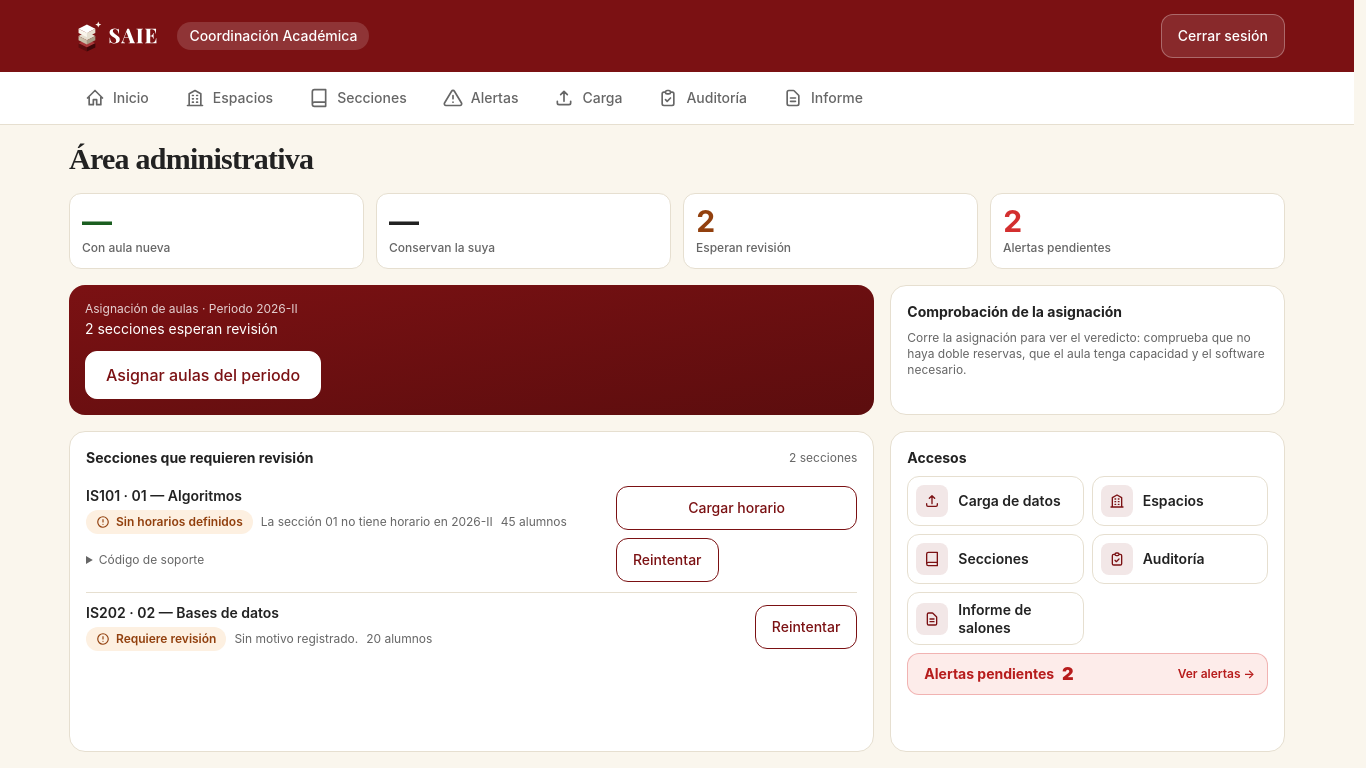
Scenario: Inicio del panel administrativo › Coordinación (Issue 4.20) › muestra el veredicto conforme del verificador (Issue 2.17)
The image size is (1366, 768).
Expected: the text "IS101 · 01 — Algoritmos" is shown, [86,487,242,504]
Step 1. Click the button "Asignar aulas del periodo" → {"x": 203, "y": 375}, box [85,351,321,399]
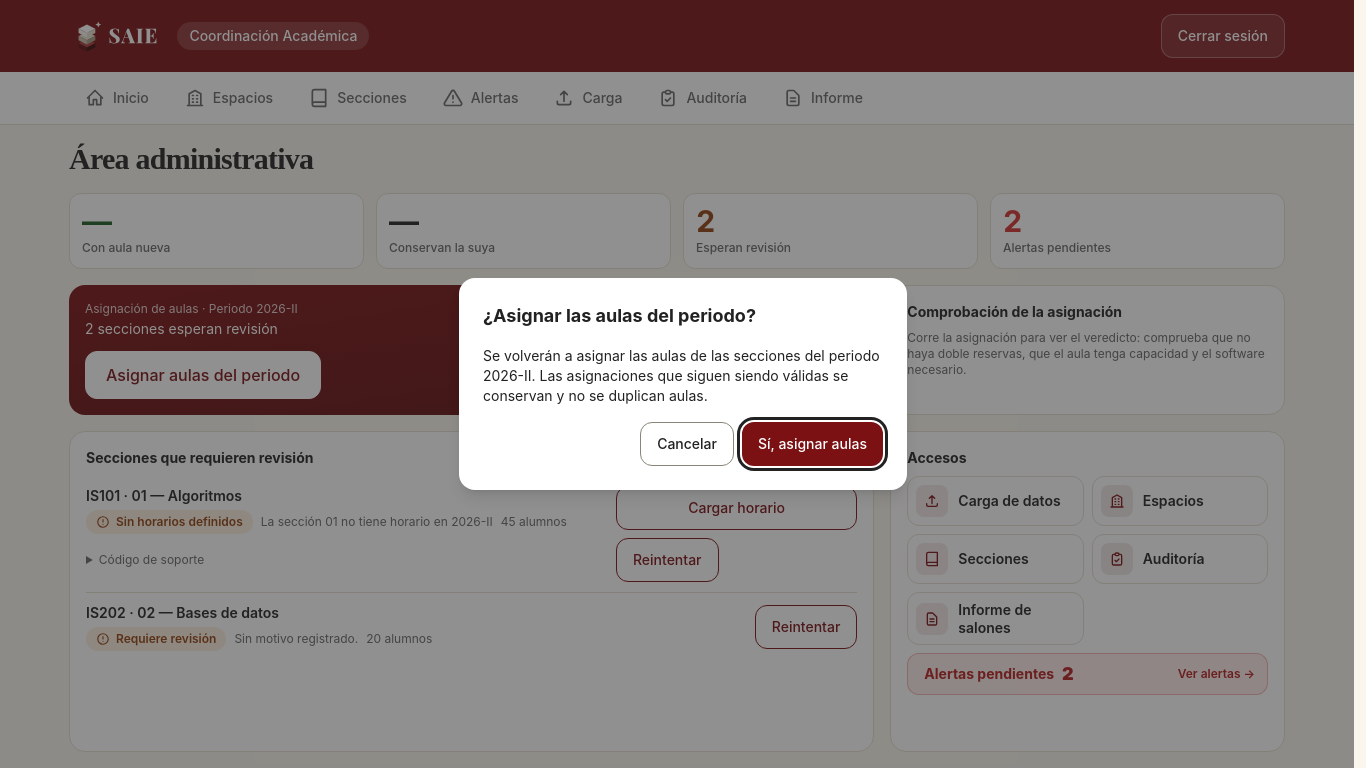
Step 2. Click the button "Sí, asignar aulas" → {"x": 812, "y": 444}, box [742,422,883,466]
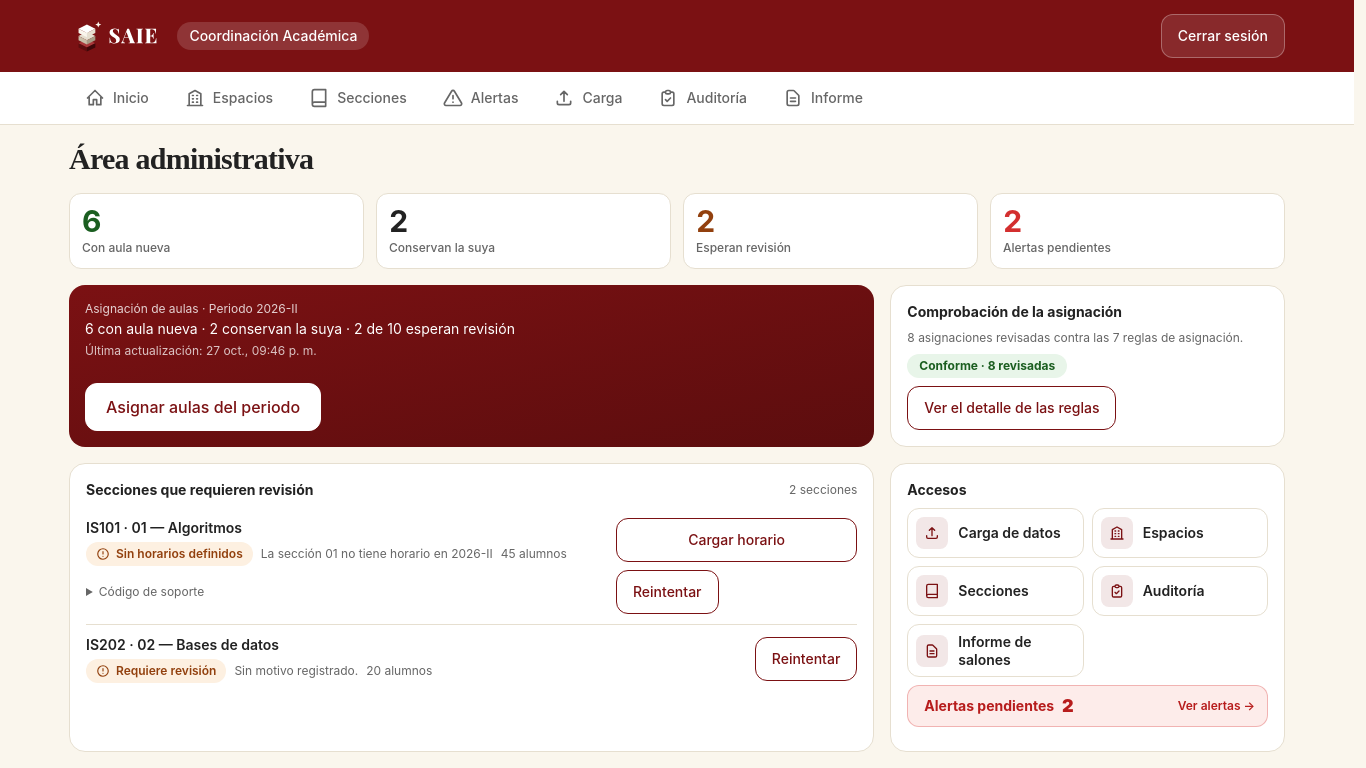
Now the text "Conforme · 8 revisadas" is shown, box [907,354,1067,378]
// …y el detalle de las reglas, en el drawer a petición.
Step 3. Click the button "Ver el detalle de las reglas" → {"x": 1012, "y": 408}, box [907,386,1116,430]
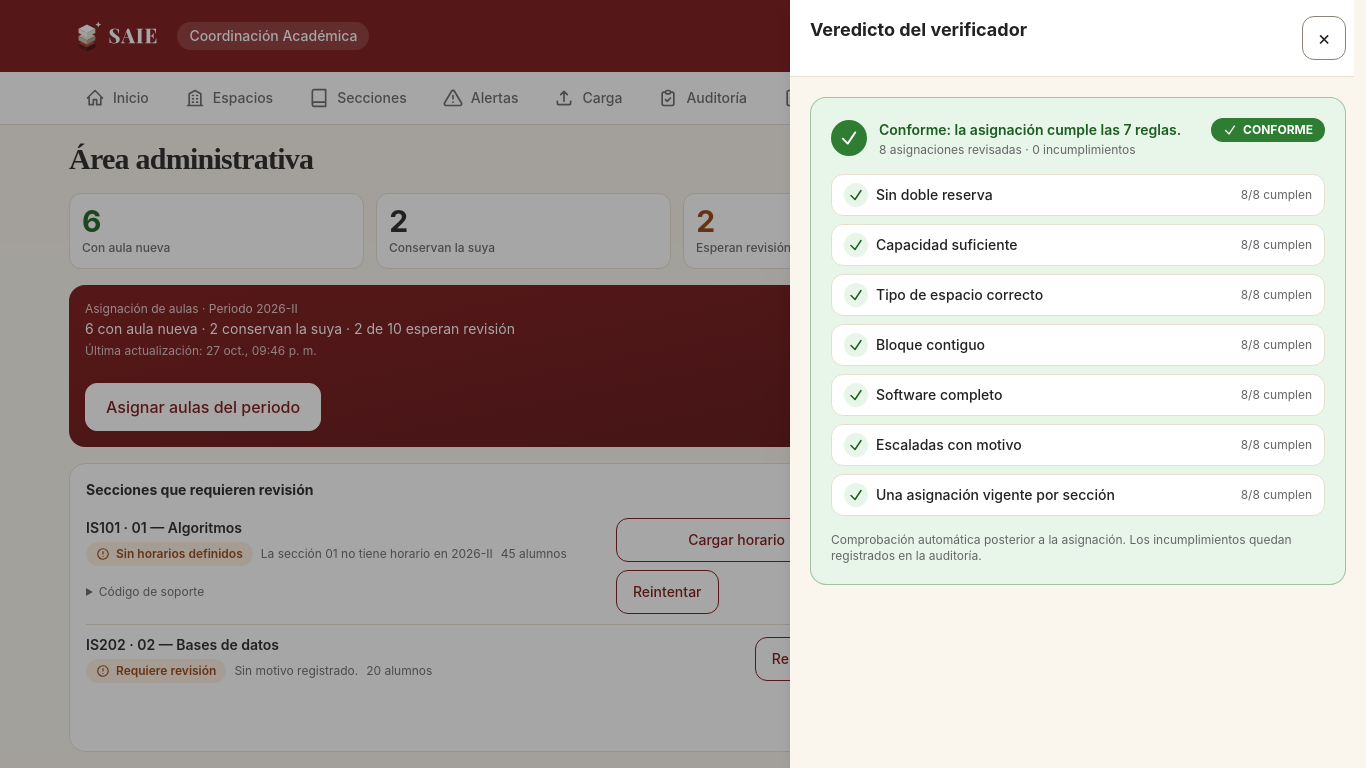
Now the text "Conforme: la asignación cumple las 7 reglas." is shown, box [879,120,1181,140]
Now the text "CONFORME" is shown, box [1211,118,1325,142]
Now the text "8 asignaciones revisadas · 0 incumplimientos" is shown, box [879,142,1136,157]
Step 4. Click the button named "Cerrar" → {"x": 1324, "y": 38}, box [1302,16,1346,60]
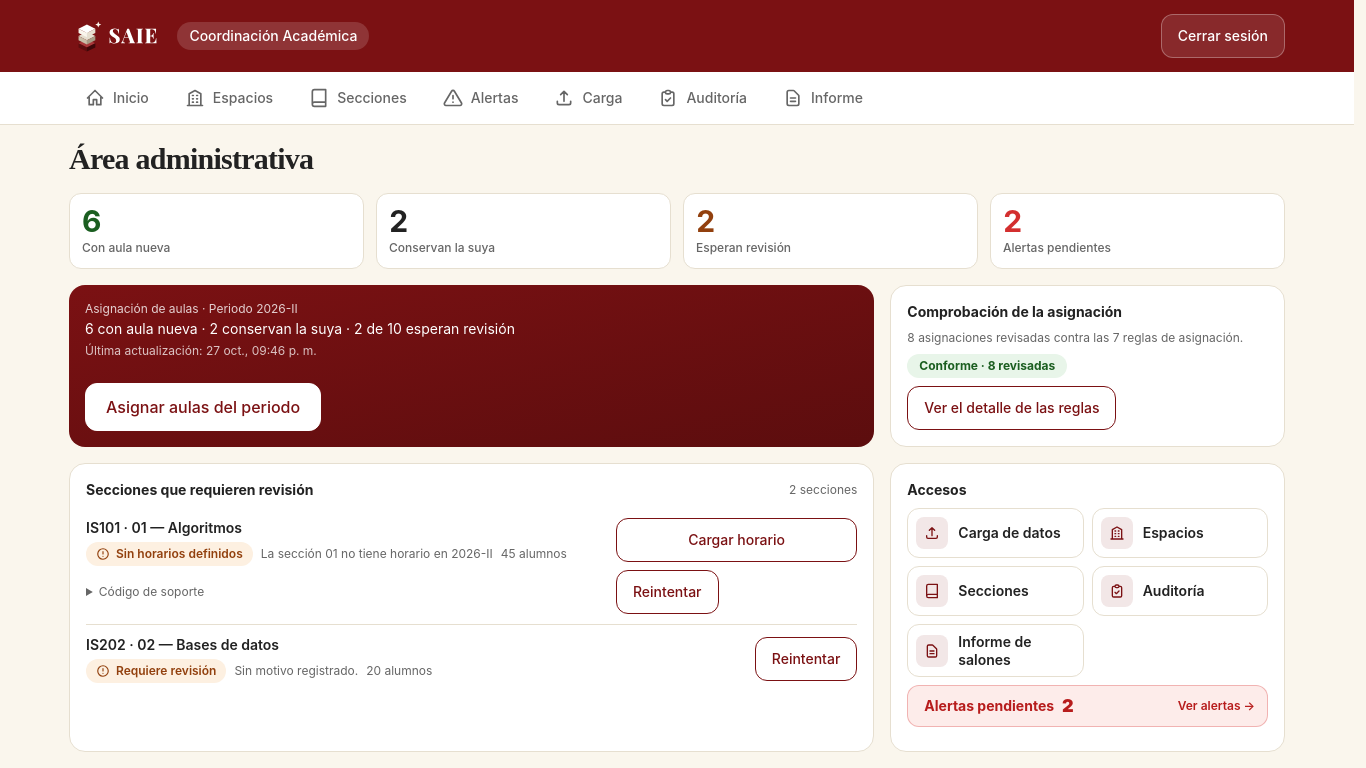
Now the text "Sin doble reserva" is gone
